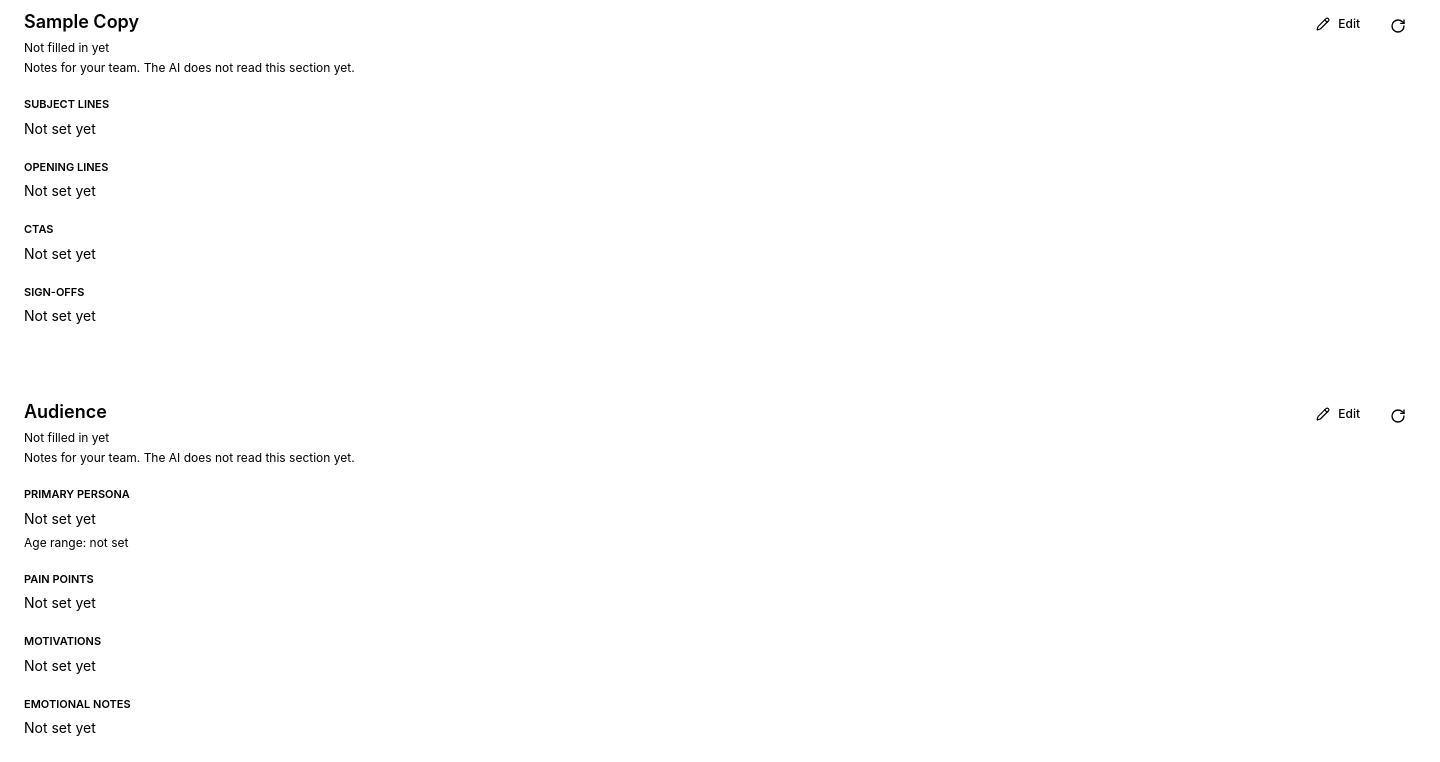
BrandProfile › closes the editor after a save and shows the result in the card
(page scrolled)
Click the button with aria-label "Edit Audience" at (1338, 414), box [1304, 398, 1372, 430]
(page scrolled)
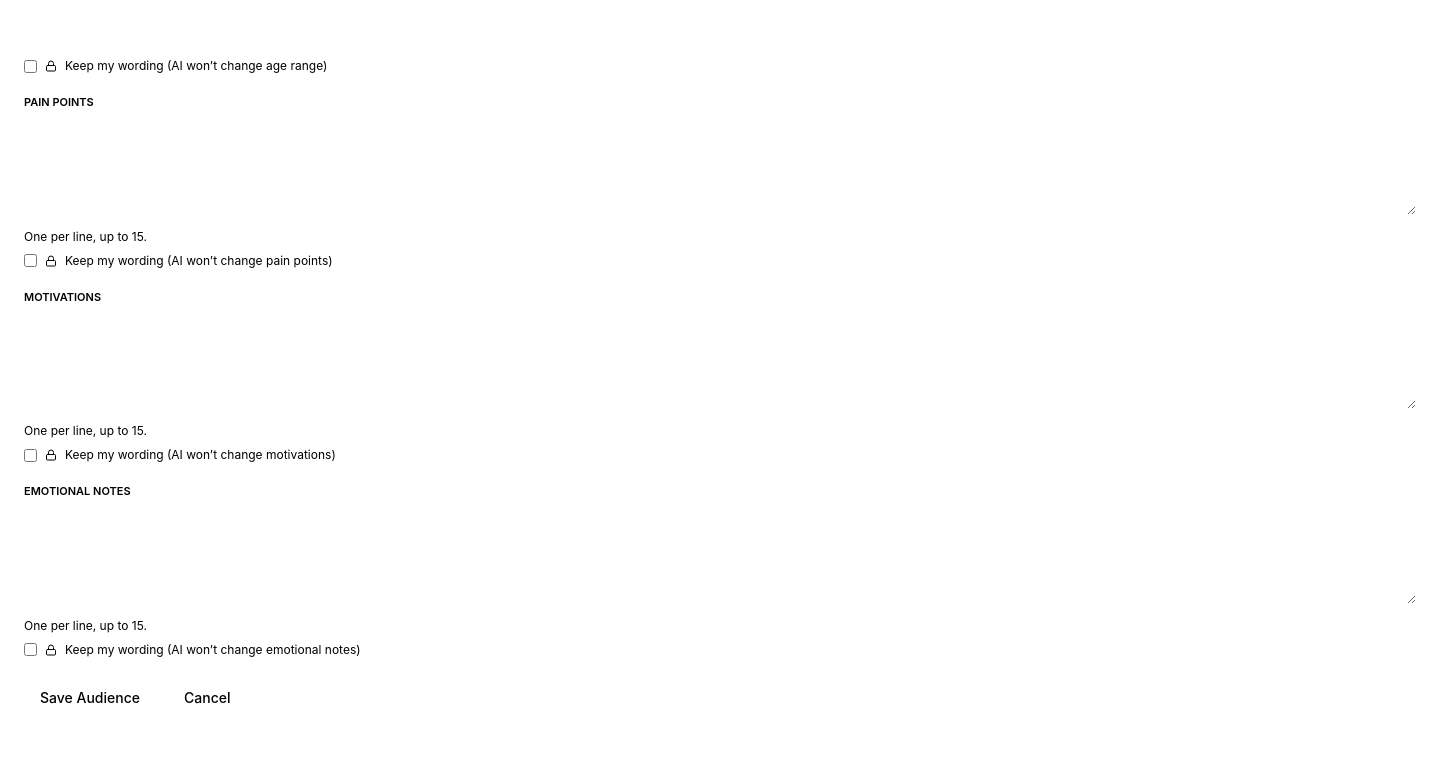
Click the button "Save Audience" at (90, 698), box [24, 678, 156, 718]
(page scrolled)
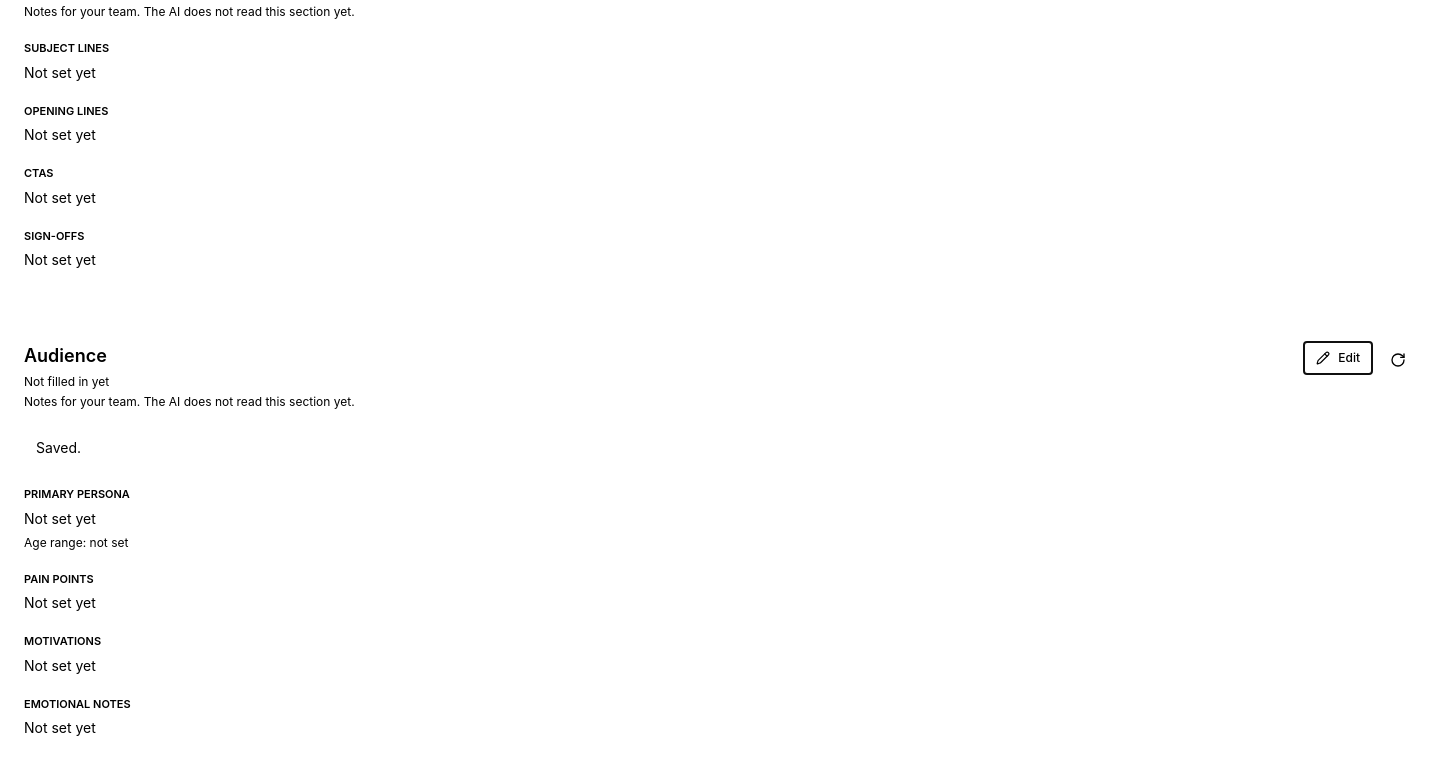
Expected: the text "Saved." is shown, [36, 439, 81, 456]
